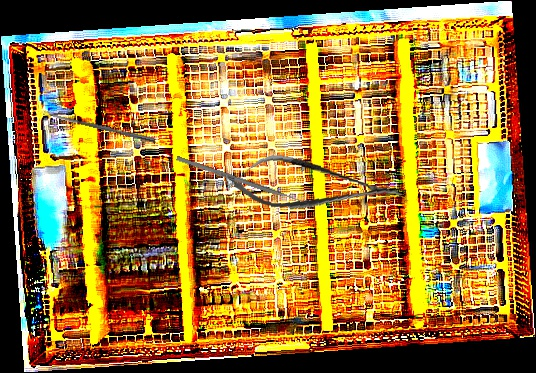Micro Scissor: (225, 149, 405, 222)
Pusher: (176, 155, 313, 208)
Surgical Spoon: (43, 110, 156, 143)
